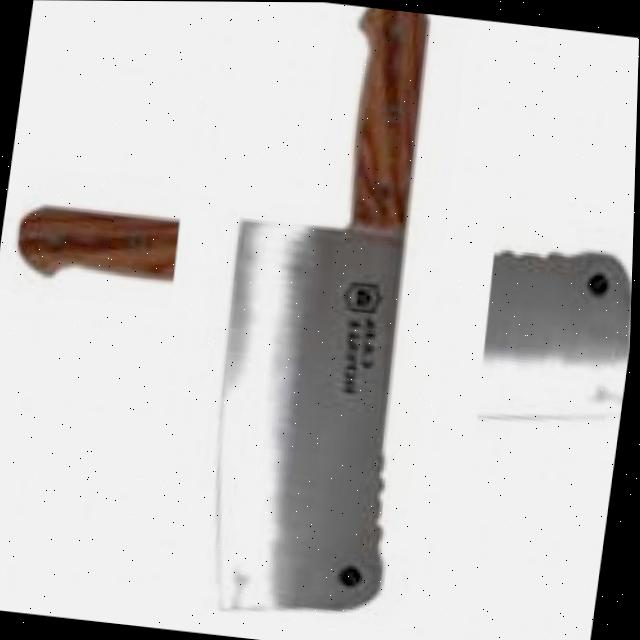knife: (185, 1, 462, 630)
